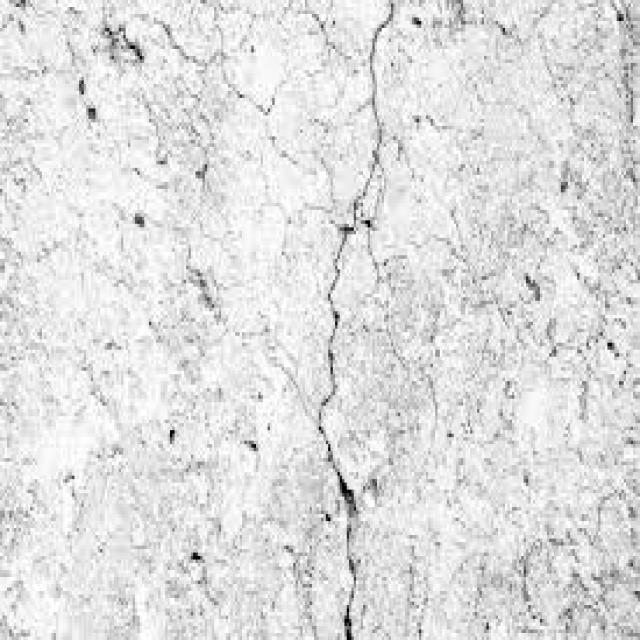crack: (318, 3, 393, 639)
